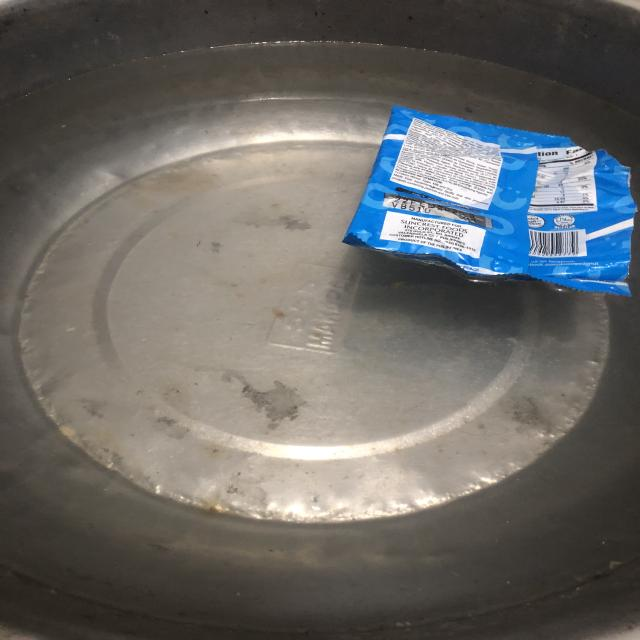Plastic Wrapper: (307, 83, 640, 319)
